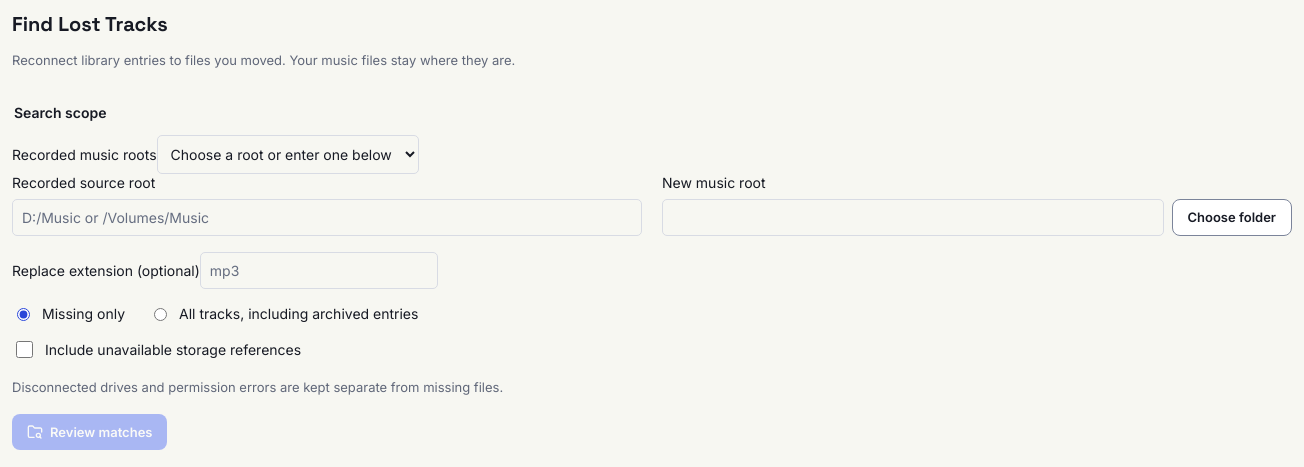
Test: offers recorded source roots with track counts before root repair
Select "D:/Music · 42 tracks" in the dropdown labelled "Recorded music roots" at (288, 154), box [157,135,419,174]
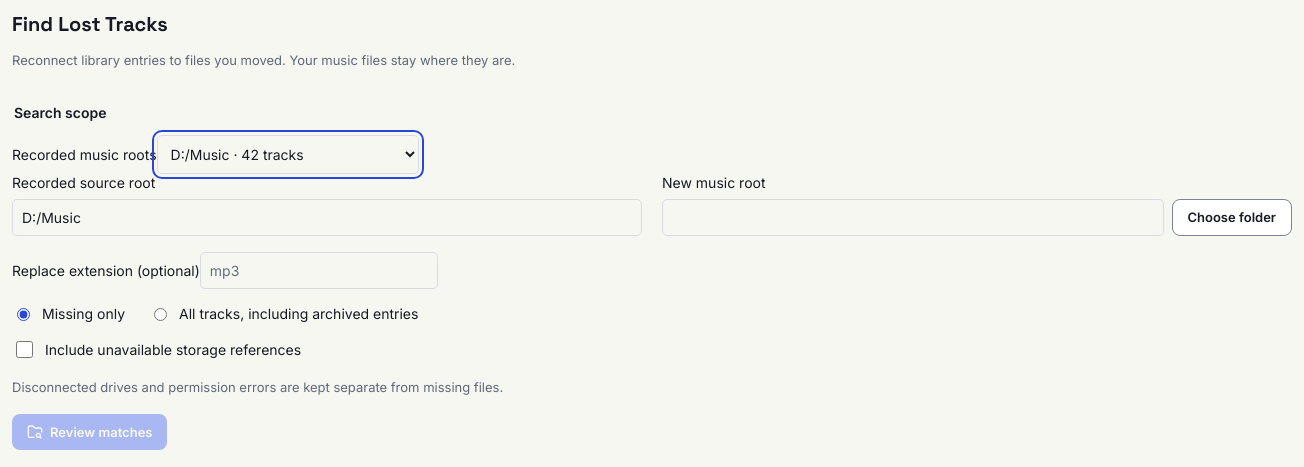
expect the field labelled "Recorded source root" holds "D:/Music": met, box [12,199,642,236]
